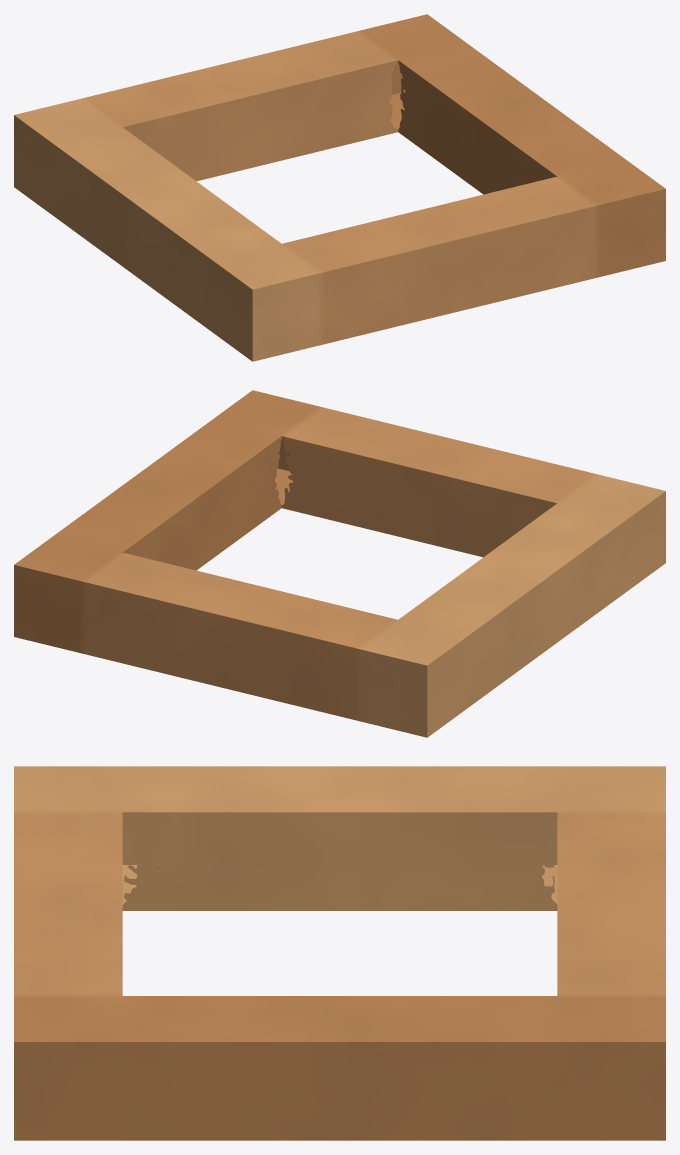
3 views of the same model, one above another, from view 1: azimuth 30°, elevation 25°; view 2: azimuth 150°, elevation 25°; view 3: azimuth 270°, elevation 25° (orthographic). The views are drawn at different scales.
Visible parts, largest first — view 1: ss24-sandstone-hearth-curb; view 2: ss24-sandstone-hearth-curb; view 3: ss24-sandstone-hearth-curb.
Boxes of the visible parts, box(x1,y1,x2,y2) form: ss24-sandstone-hearth-curb: box(14, 14, 665, 361); ss24-sandstone-hearth-curb: box(14, 390, 665, 737); ss24-sandstone-hearth-curb: box(14, 766, 665, 1140).
Bounding box in the file's own units: 150 × 25 × 150.
